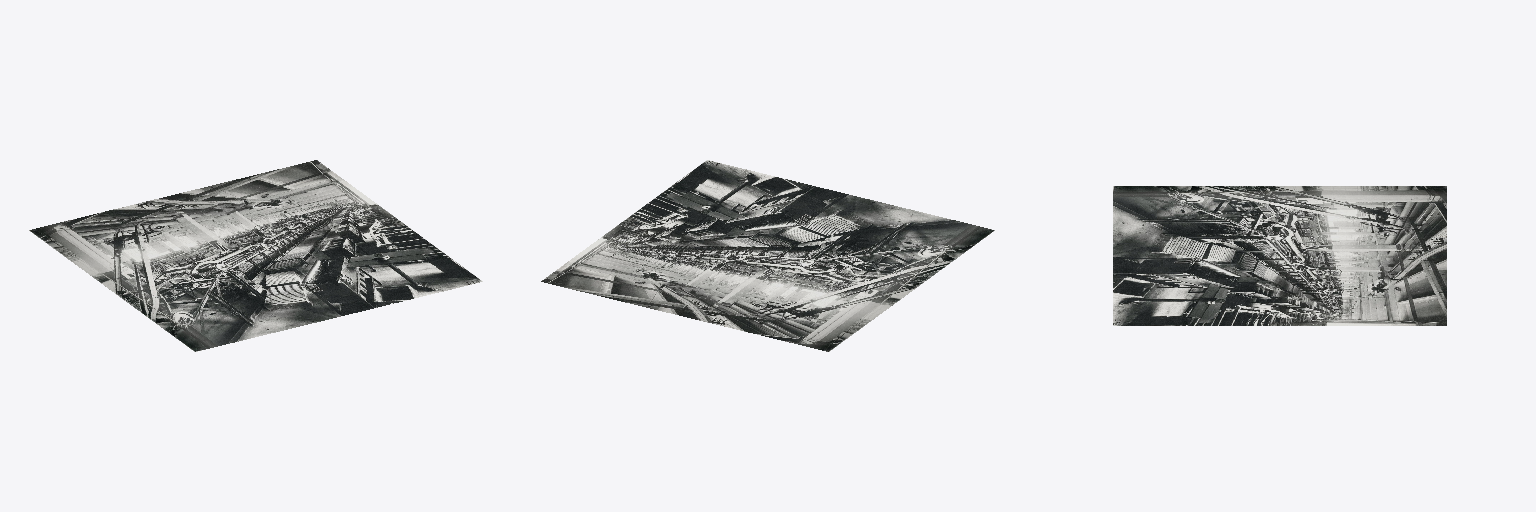
3 renders of one model, left to right at view 1: azimuth 30°, elevation 25°; view 2: azimuth 150°, elevation 25°; view 3: azimuth 270°, elevation 25°, orthographic.
Parts seen in each view (by area): view 1: Plane001; view 2: Plane001; view 3: Plane001.
Boxes of the visible parts, <box> form: Plane001: <box>29,160,482,351</box>; Plane001: <box>541,160,994,351</box>; Plane001: <box>1113,186,1446,325</box>.
Bounding box in the file's own units: 3.94 × 0 × 3.94.
1 materials, 1 textured.